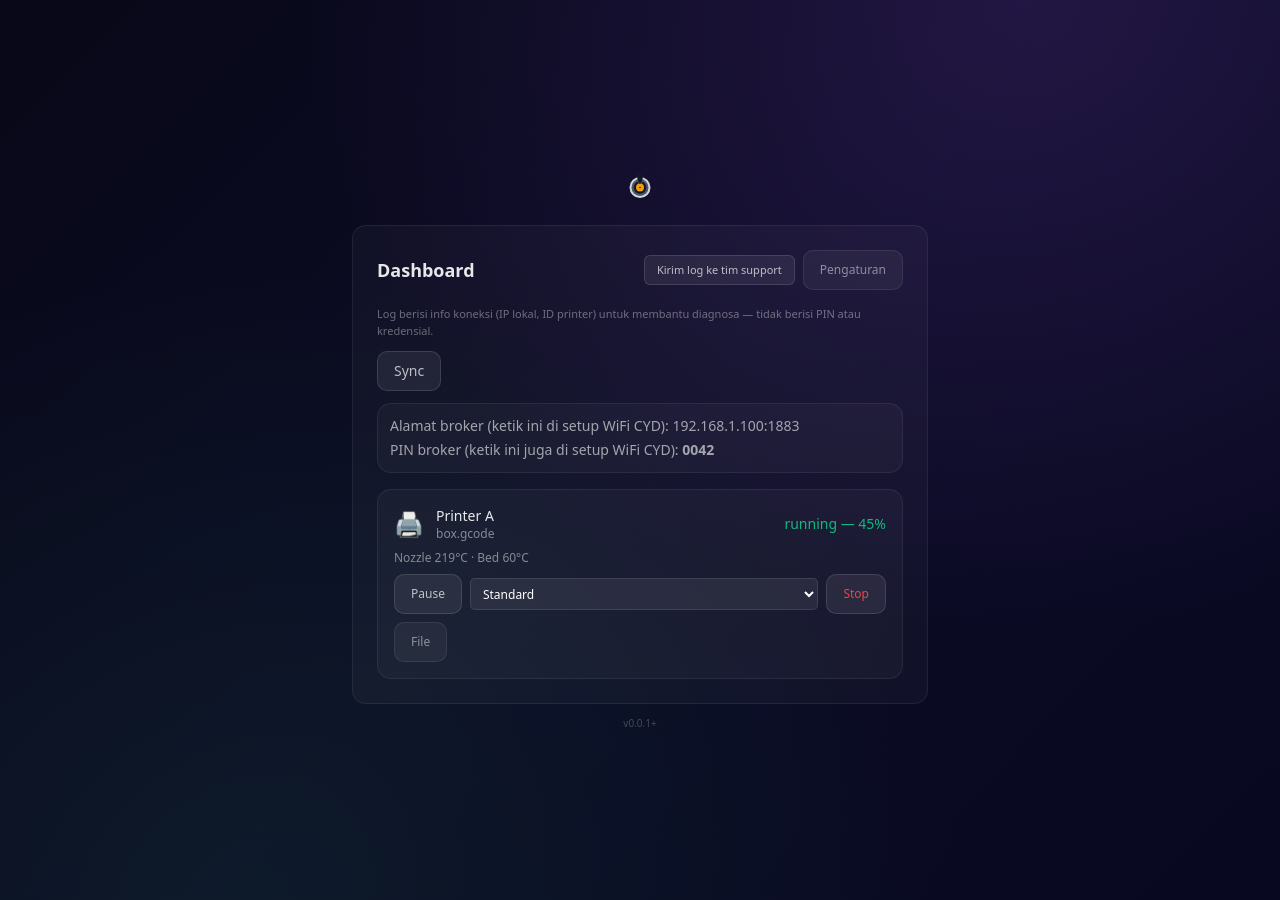
Test: DashboardScreen kirim log › sendLogs gagal reason:too_large -> pesan spesifik 'Log terlalu besar'
The image size is (1280, 900).
Click the button "Kirim log ke tim support".
click(719, 270)  # box [644, 255, 795, 285]
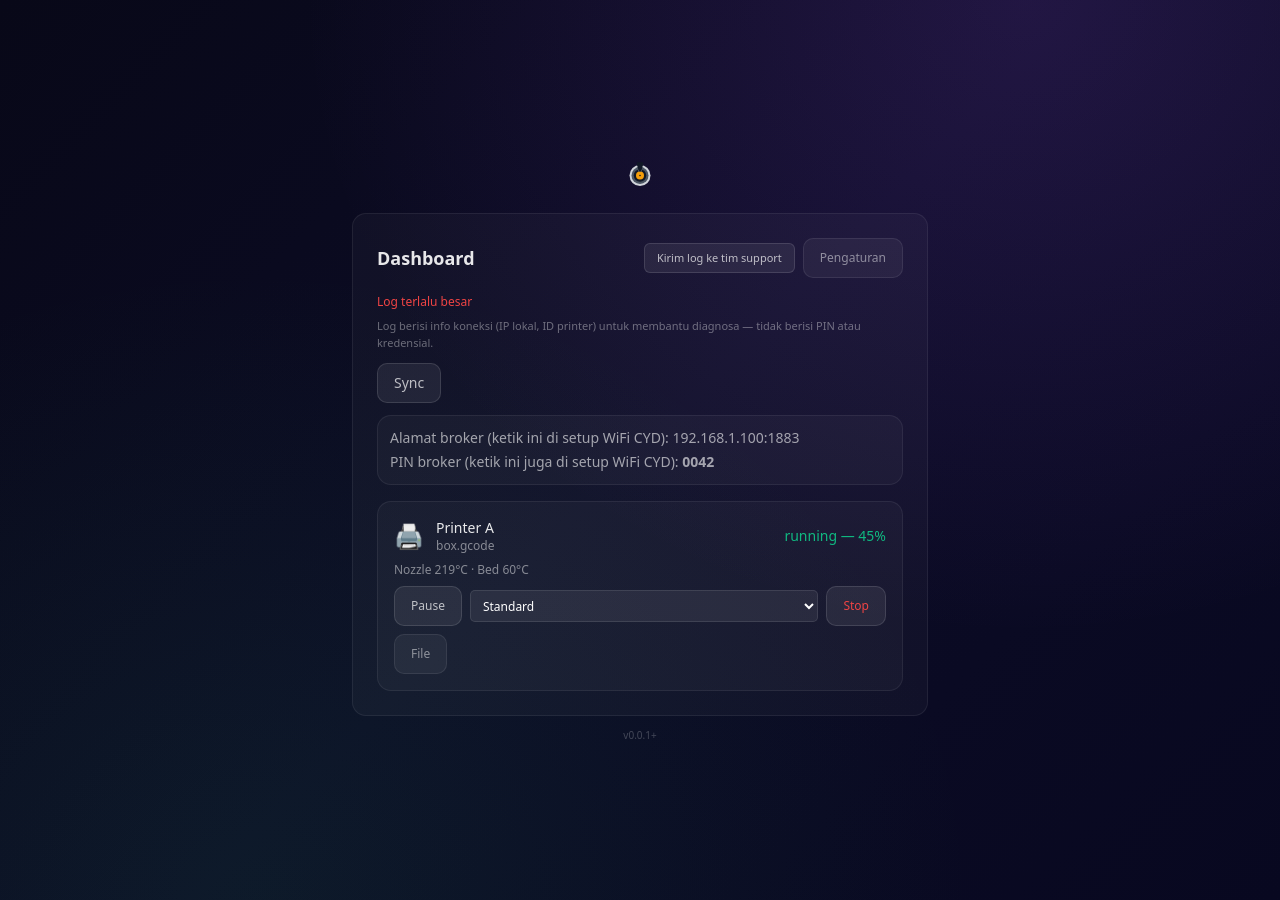
expect the text "Log terlalu besar" is shown: met, box [377, 293, 472, 310]
